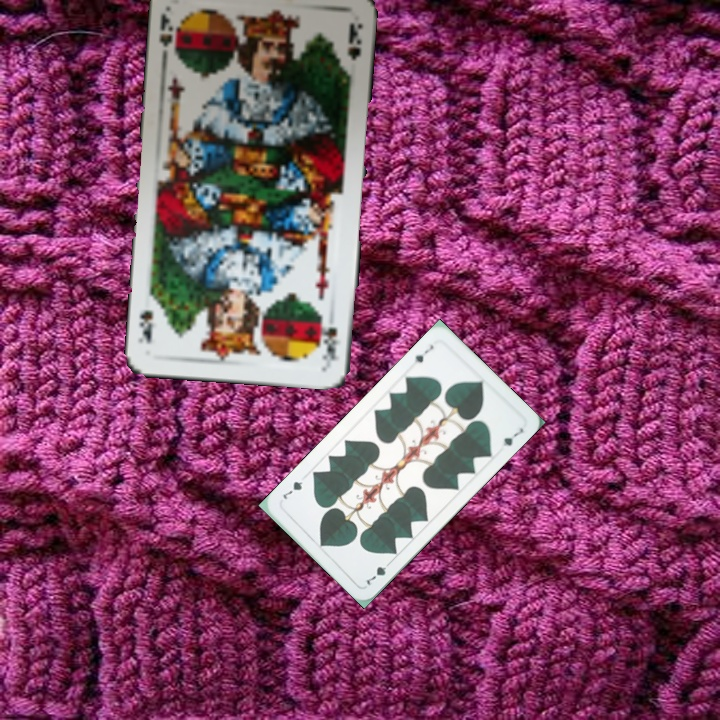G7: (362, 556, 395, 590), (410, 341, 436, 365)
SK: (318, 323, 342, 363), (155, 9, 175, 49)
